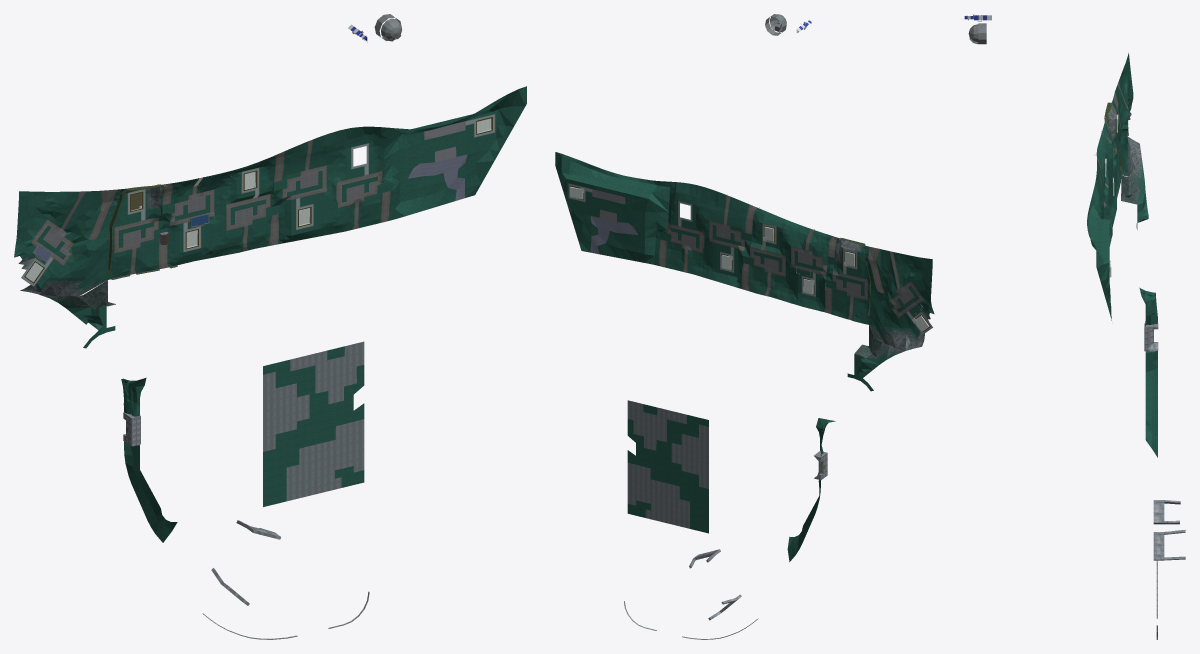
File: landne_landne__part_00.obj
3 renders of one model, left to right at view 1: azimuth 30°, elevation 25°; view 2: azimuth 150°, elevation 25°; view 3: azimuth 270°, elevation 25°, orthographic. The views are drawn at different scales.
Parts seen in each view (by area): view 1: landne_landne__part_00; view 2: landne_landne__part_00; view 3: landne_landne__part_00.
Part boxes in pixels (x1,y1,x2,y2): landne_landne__part_00: (14,14,526,639); landne_landne__part_00: (555,14,934,639); landne_landne__part_00: (964,14,1185,639).
Bounding box in the file's own units: 584 × 794 × 271.
96 materials, 96 textured.
